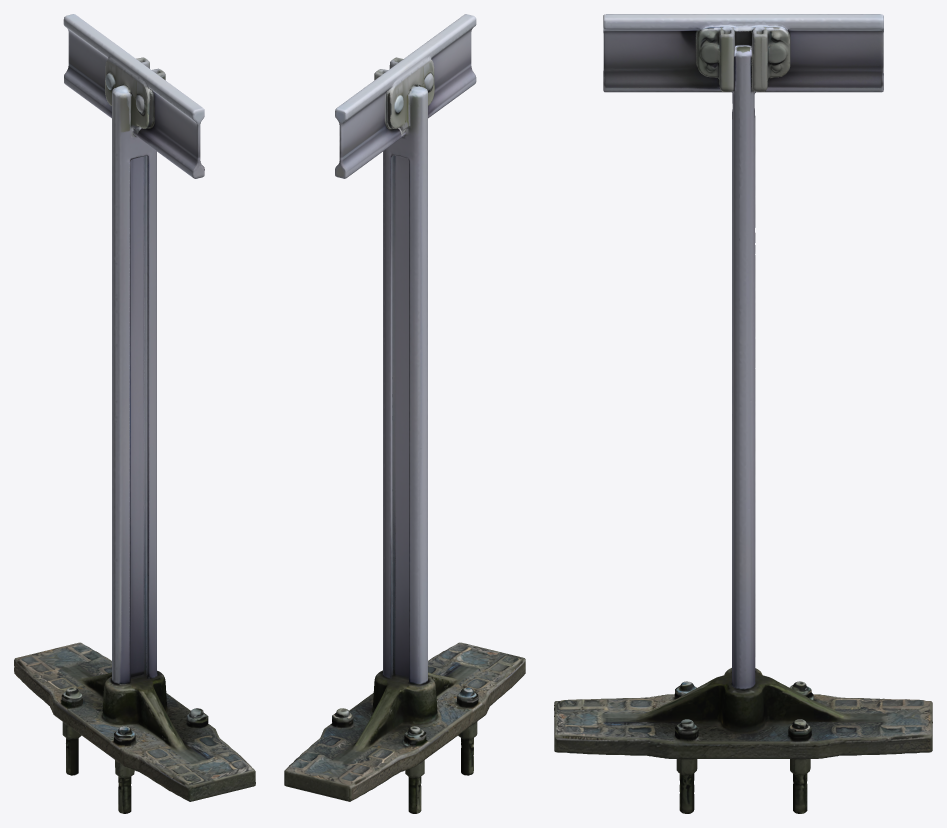
File: tripo_convert_0dff0815-5c02-443b-88f9-12b270e944e9.fbx
3 renders of one model, left to right at view 1: azimuth 30°, elevation 25°; view 2: azimuth 150°, elevation 25°; view 3: azimuth 270°, elevation 25°, orthographic. The views are drawn at different scales.
Visible parts, largest first — view 1: tripo_node_0dff0815; view 2: tripo_node_0dff0815; view 3: tripo_node_0dff0815.
Boxes of the visible parts, <box> form: tripo_node_0dff0815: <box>14,14,255,813</box>; tripo_node_0dff0815: <box>284,14,525,813</box>; tripo_node_0dff0815: <box>554,14,932,813</box>.
Size of the model in its own units: 0.1344 by 1 by 0.4419.
1 material, 1 textured.
